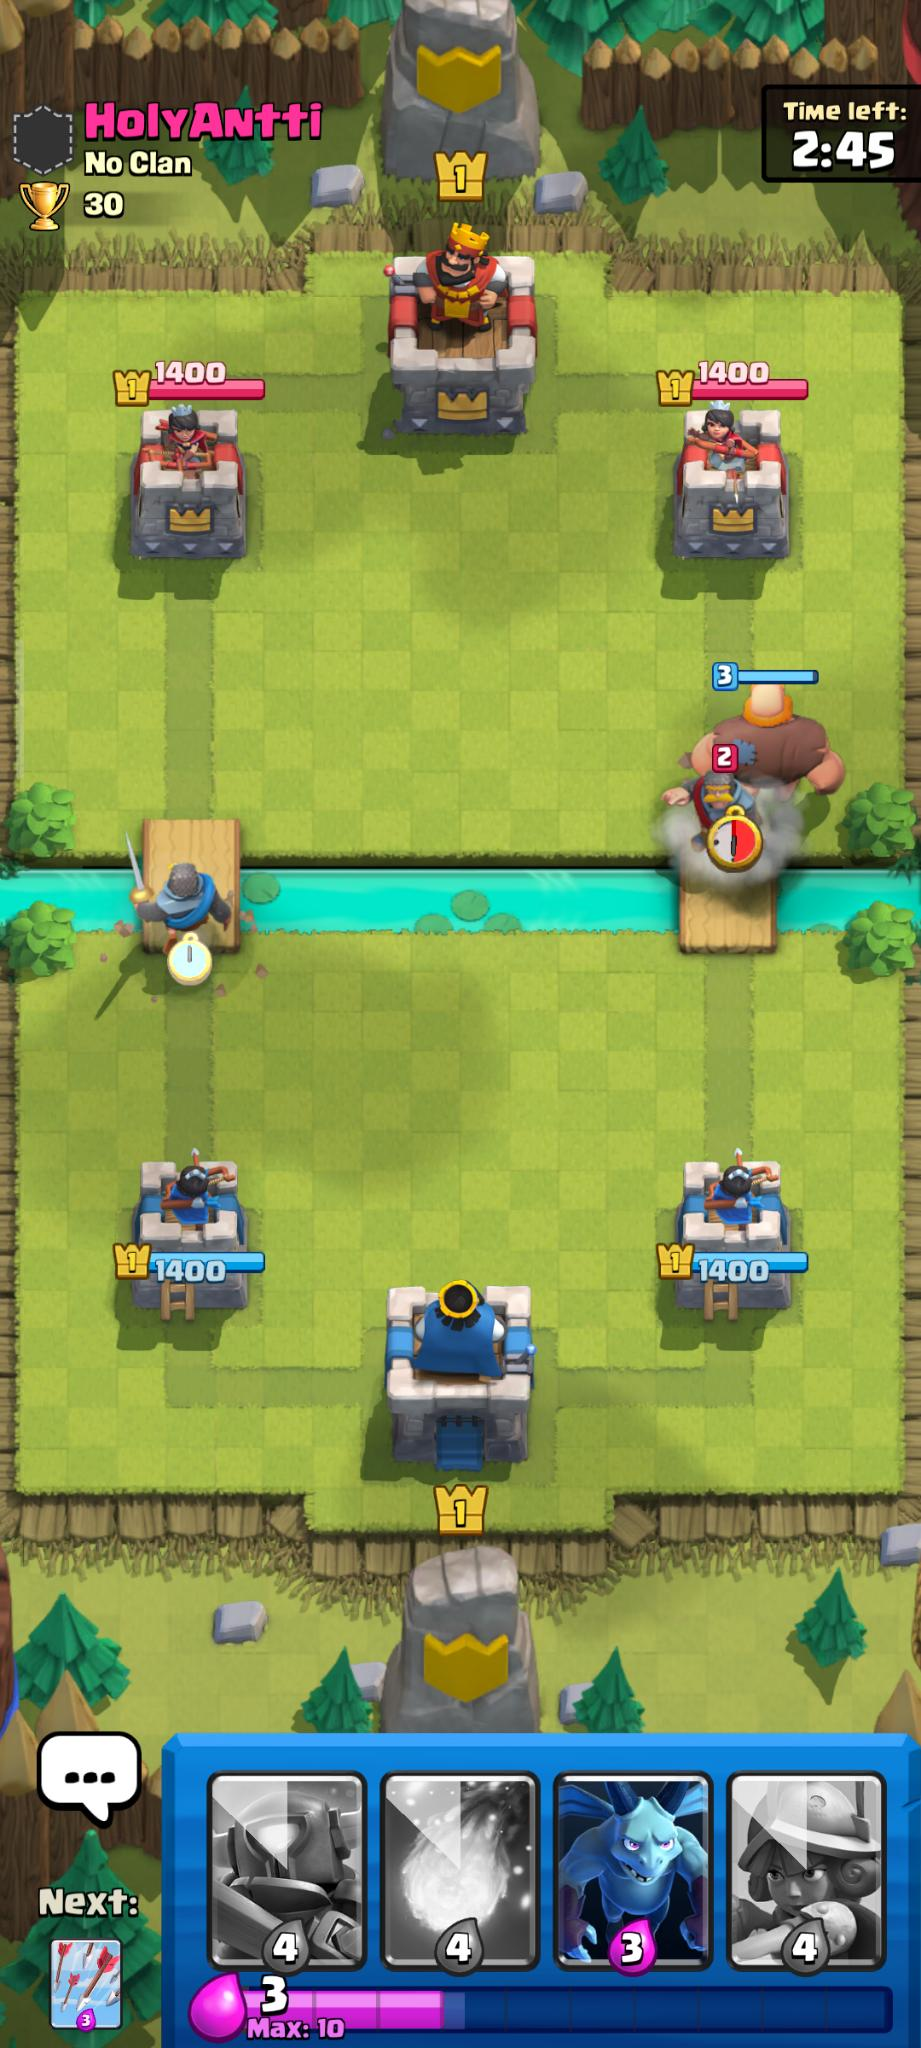geant: (688, 673, 847, 808)
